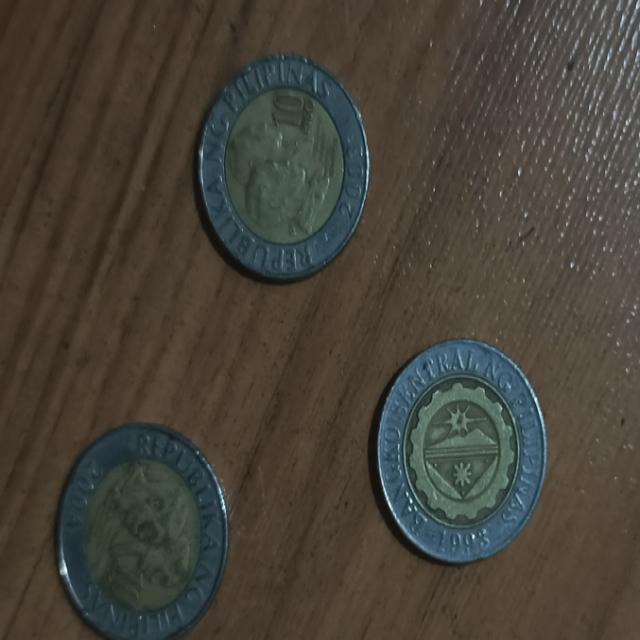10_peso: (377, 339, 545, 563), (199, 56, 368, 278), (57, 424, 226, 639)
